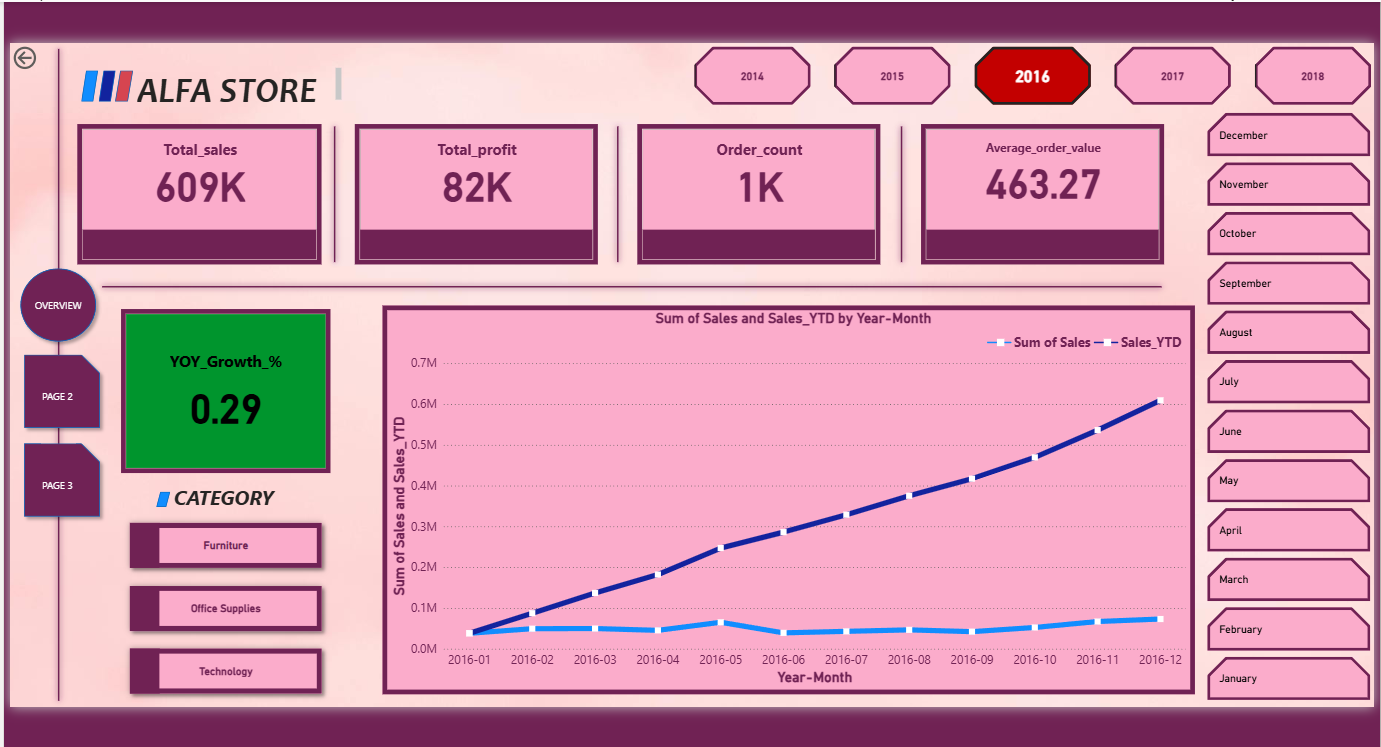

Layout of this report page (visuals, bound fields, positions):
{"tool":"powerbi","page":{"name":"Page 1","canvas":[1850,900],"ordinal":0},"visuals":[{"type":"actionButton","box":[0,0,100,40.4],"z":0},{"type":"advancedSlicerVisual","fields":{"Values":["Dim_Date.Year"]},"box":[925.9,0,924.1,89.7],"z":1000},{"type":"cardVisual","fields":{"Data":["Sample - Superstore.Total_sales"]},"box":[86.2,105.2,341.4,200],"z":2000},{"type":"cardVisual","fields":{"Data":["Sample - Superstore.Total_profit"]},"box":[462.1,105.2,339.7,200],"z":3000},{"type":"cardVisual","fields":{"Data":["Sample - Superstore.Order_count"]},"box":[846.6,105.2,339.7,200],"z":4000},{"type":"cardVisual","fields":{"Data":["Sample - Superstore.Average_order_value"]},"box":[1231,105.2,339.7,200],"z":5000},{"type":"shape","box":[96.8,37.9,22.8,42.1],"z":6000},{"type":"shape","box":[119.6,37.9,22.8,42.1],"z":7000},{"type":"shape","box":[142.5,37.9,24.6,42.1],"z":8000},{"type":"textbox","box":[167.2,29.3,286.2,60.3],"z":9000},{"type":"shape","box":[419,105.2,43.1,200],"z":10000},{"type":"shape","box":[43.9,0,43.9,900],"z":11000},{"type":"shape","box":[1186.2,105.2,44.8,200],"z":12000},{"type":"cardVisual","fields":{"Data":["Sample - Superstore.YOY_Growth_%"]},"box":[145.8,355.9,294.9,232.2],"z":13000},{"type":"advancedSlicerVisual","fields":{"Values":["Dim_Date.Month Name"]},"box":[1619.3,89.5,231.6,810.5],"z":14000},{"type":"shape","box":[5.2,296.6,120.7,117.2],"z":15000},{"type":"shape","box":[801.7,105.2,44.8,200],"z":16000},{"type":"lineChart","fields":{"Y":["Sum(Sample - Superstore.Sales)","Sample - Superstore.Sales_YTD"],"Category":["Dim_Date.Year-Month"]},"box":[505.2,355.2,1101.7,527.6],"z":17000},{"type":"shape","box":[116.9,305.1,1452.5,50.8],"z":18000},{"type":"advancedSlicerVisual","fields":{"Values":["Dim_Product.Category"]},"box":[146.6,634.5,294.8,265.5],"z":19000},{"type":"shape","box":[198.3,608.6,19,20.7],"z":20000},{"type":"textbox","box":[217.2,593.1,155.2,51.7],"z":21000},{"type":"shape","box":[10.3,413.8,120.7,117.2],"z":22000},{"type":"shape","box":[10.3,534.5,120.7,117.2],"z":23000}]}

Visuals, with their boxes in screenshot pixels (x1, y1, x2, y2):
actionButton: box(4, 40, 77, 69)
advancedSlicerVisual - Dim_Date.Year: box(685, 40, 1366, 106)
cardVisual - Sample - Superstore.Total_sales: box(67, 117, 318, 264)
cardVisual - Sample - Superstore.Total_profit: box(344, 117, 594, 264)
cardVisual - Sample - Superstore.Order_count: box(627, 117, 877, 264)
cardVisual - Sample - Superstore.Average_order_value: box(910, 117, 1160, 264)
shape: box(75, 67, 92, 98)
shape: box(92, 67, 108, 98)
shape: box(109, 67, 127, 98)
textbox: box(127, 61, 337, 106)
shape: box(312, 117, 344, 264)
shape: box(36, 40, 68, 702)
shape: box(877, 117, 910, 264)
cardVisual - Sample - Superstore.YOY_Growth_%: box(111, 302, 328, 473)
advancedSlicerVisual - Dim_Date.Month Name: box(1196, 105, 1366, 702)
shape: box(7, 258, 96, 344)
shape: box(594, 117, 627, 264)
lineChart - Sum(Sample - Superstore.Sales) x Sample - Superstore.Sales_YTD: box(376, 301, 1187, 689)
shape: box(90, 264, 1159, 302)
advancedSlicerVisual - Dim_Product.Category: box(112, 507, 329, 702)
shape: box(150, 488, 164, 503)
textbox: box(163, 476, 278, 514)
shape: box(11, 344, 100, 430)
shape: box(11, 433, 100, 519)
